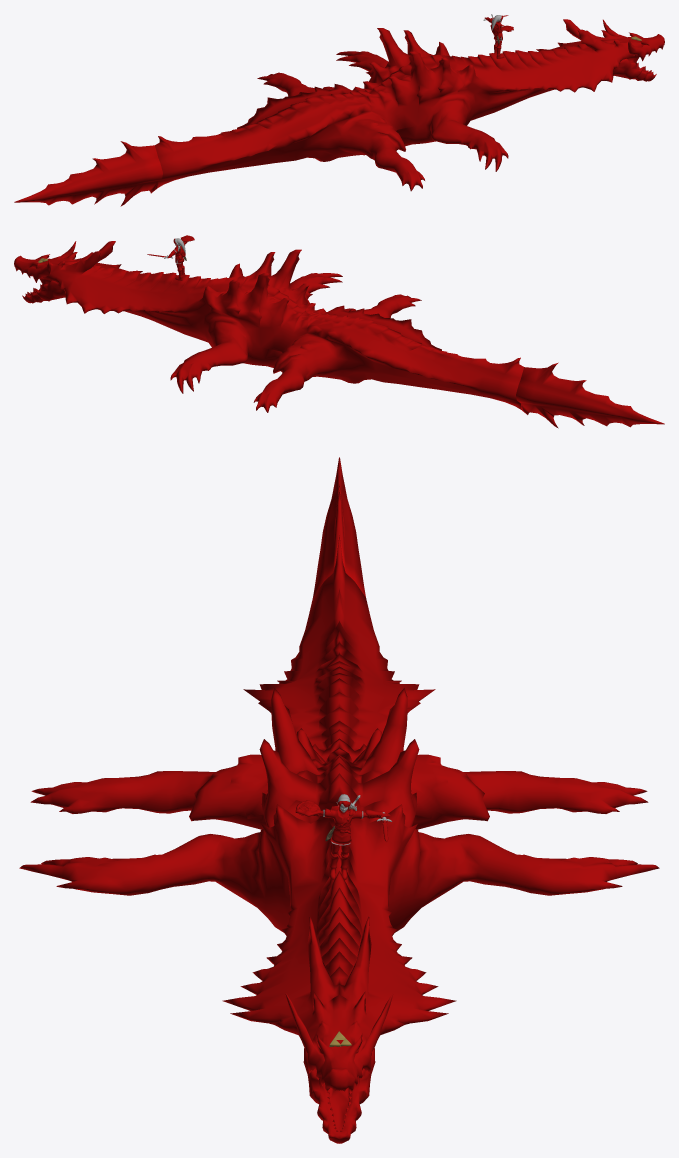
The model's file is dragon-riding-link.obj.
3 renders of one model, top to bottom at view 1: azimuth 30°, elevation 25°; view 2: azimuth 150°, elevation 25°; view 3: azimuth 270°, elevation 25°, orthographic. The views are drawn at different scales.
Bounding box in the file's own units: 26.48 × 4.2 × 11.31.
